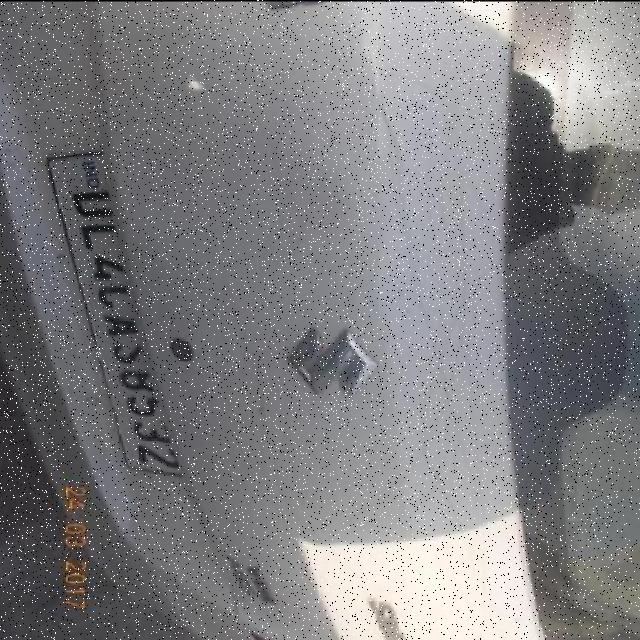damage: (112, 109, 384, 283), (409, 210, 476, 509)
